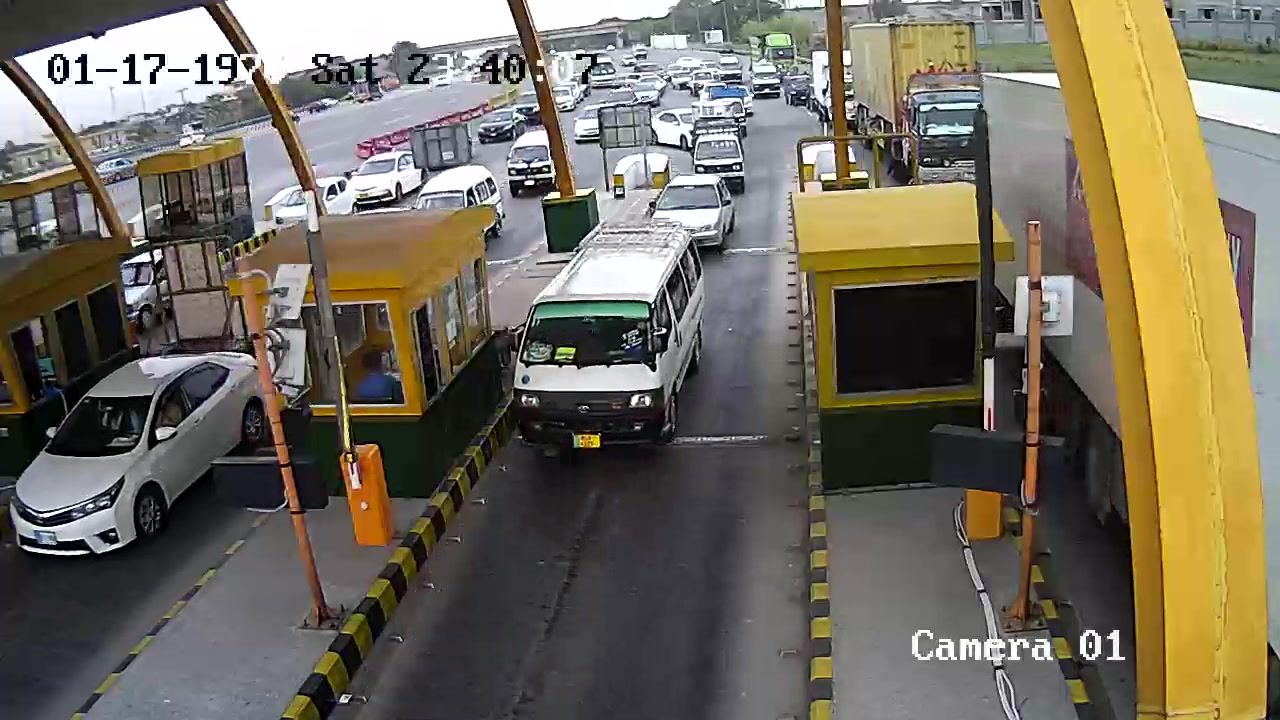F2: (515, 218, 723, 466)
